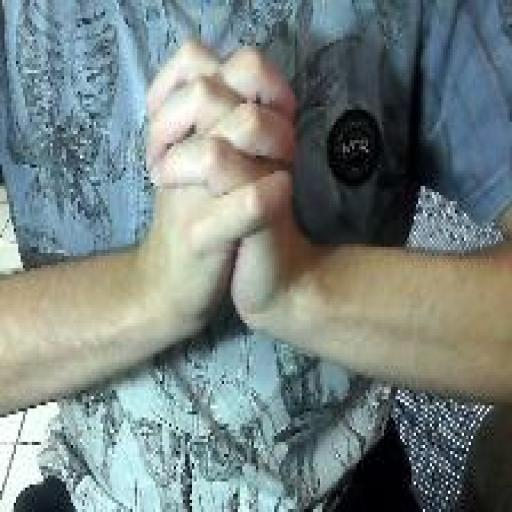Mi -snake-: (142, 35, 302, 346)
